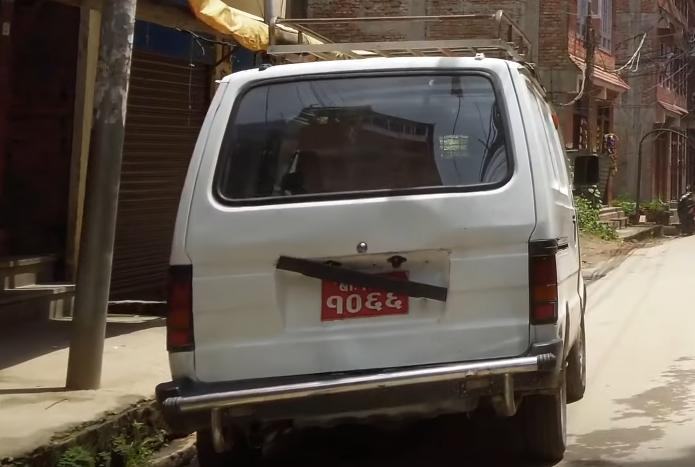van: (172, 11, 617, 467)
